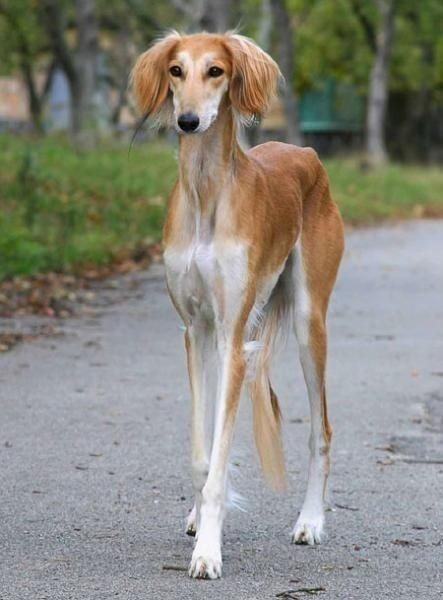dog: (132, 33, 342, 577)
